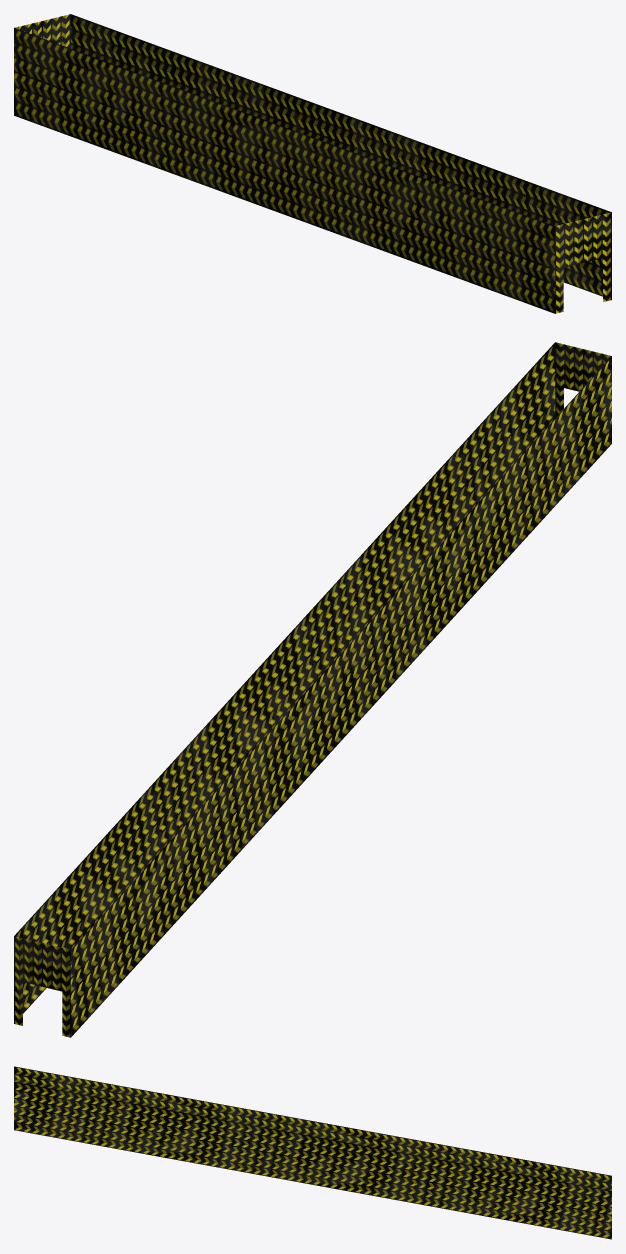
Rendered from Wall_FrAr.fbx.
3 renders of one model, top to bottom at view 1: azimuth 30°, elevation 25°; view 2: azimuth 150°, elevation 25°; view 3: azimuth 270°, elevation 25°, orthographic. The views are drawn at different scales.
Parts seen in each view (by area): view 1: Wall_forAr; view 2: Wall_forAr; view 3: Wall_forAr.
Part boxes in pixels (x1=…): Wall_forAr: x1=14, y1=14, x2=611, y2=313; Wall_forAr: x1=14, y1=342, x2=611, y2=1037; Wall_forAr: x1=14, y1=1066, x2=611, y2=1239.
Bounding box in the file's own units: 9.3 × 44.68 × 153.
1 material, 1 textured.
